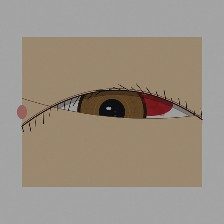hemorrhage_spot: (120, 81, 181, 129)
